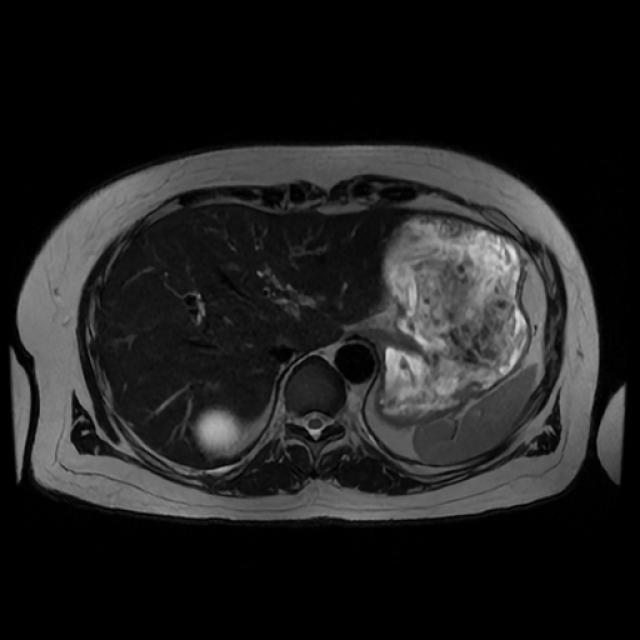sag: (196, 410, 243, 452)
